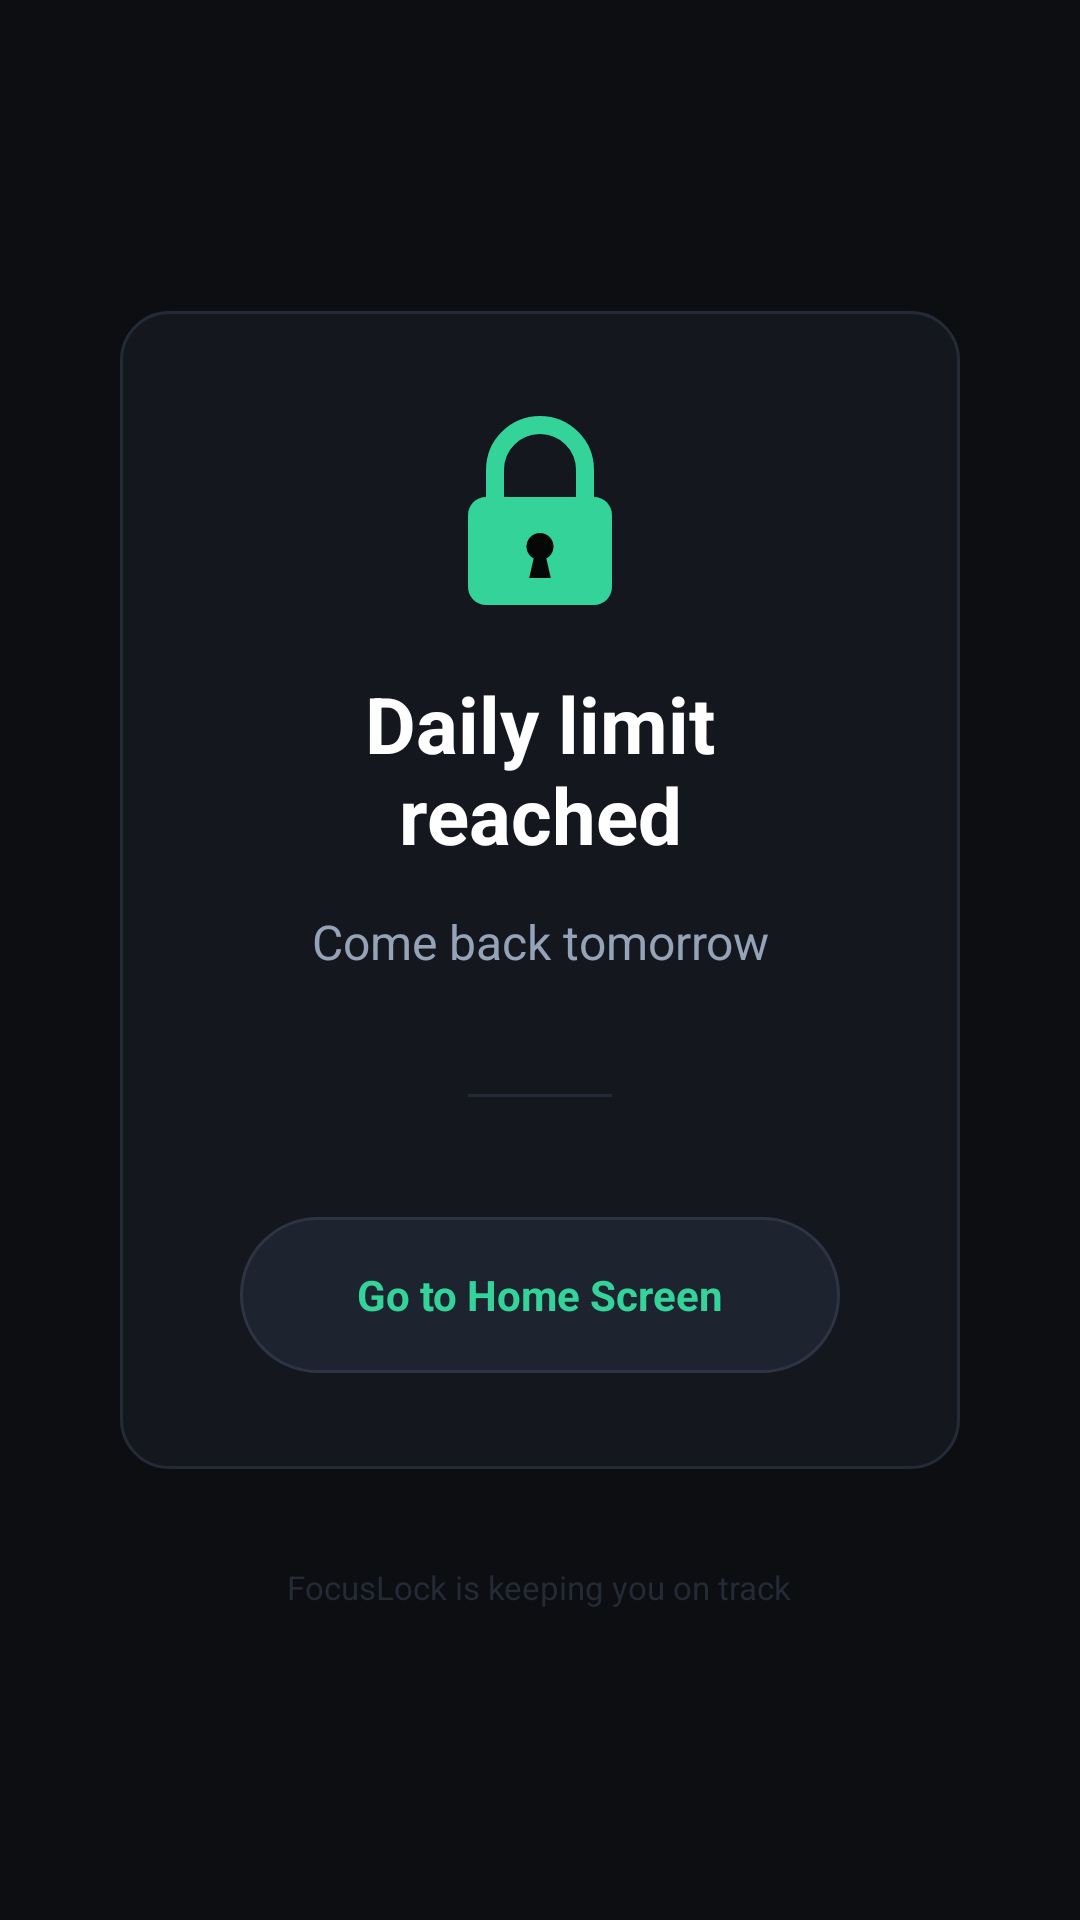

Where to tap for icons on this 1080*1920 app screen, as [x,y]:
lock closed: [540,510]
